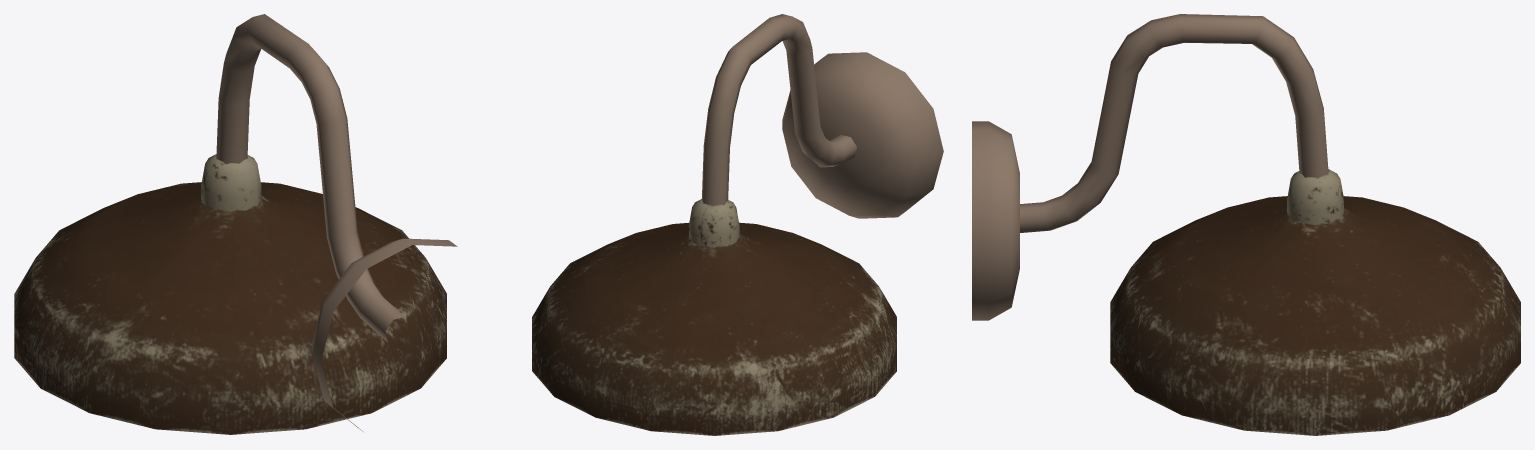
Rendered from SM_electric_props_08.glb.
The picture shows the model from 3 angles, left to right: view 1: azimuth 30°, elevation 25°; view 2: azimuth 150°, elevation 25°; view 3: azimuth 270°, elevation 25°; orthographic projection. The views are drawn at different scales.
Visible parts, largest first — view 1: SM_electric_props_08; view 2: SM_electric_props_08; view 3: SM_electric_props_08.
Boxes of the visible parts, x1,y1,x2,y2 form: SM_electric_props_08: [14, 14, 457, 434]; SM_electric_props_08: [532, 14, 943, 435]; SM_electric_props_08: [972, 14, 1520, 435].
Bounding box in the file's own units: 1 × 0.8768 × 1.32.
Materials: 3 (1 with a texture image).
